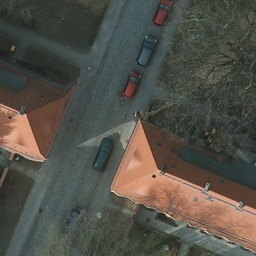car: (60, 209, 89, 240), (133, 36, 162, 65), (90, 139, 115, 170), (120, 69, 141, 99)
